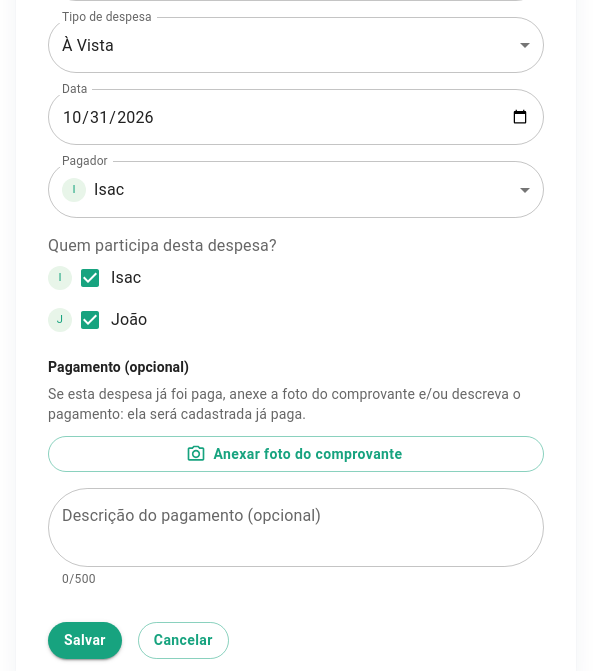
Test: ExpenseForm › seção "Pagamento (opcional)" › keeps the two descriptions apart by label and counts the payment note up to 500 (CA-F5)
This screenshot has width=593, height=671.
(page scrolled)
Expected: the checkbox labelled "João" is shown, [78, 308, 147, 332]
Expected: the heading "Pagamento (opcional)" is shown, [48, 359, 189, 375]
Type "Pix" into the text box labelled "Descrição do pagamento (opcional)" at coordinates (296, 528), box [62, 505, 530, 551]
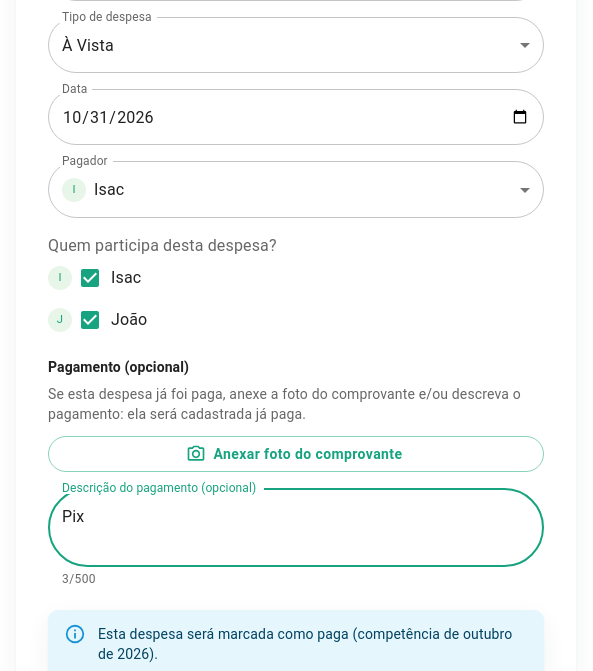
Expected: the text "3/500" is shown, [62, 572, 96, 586]
